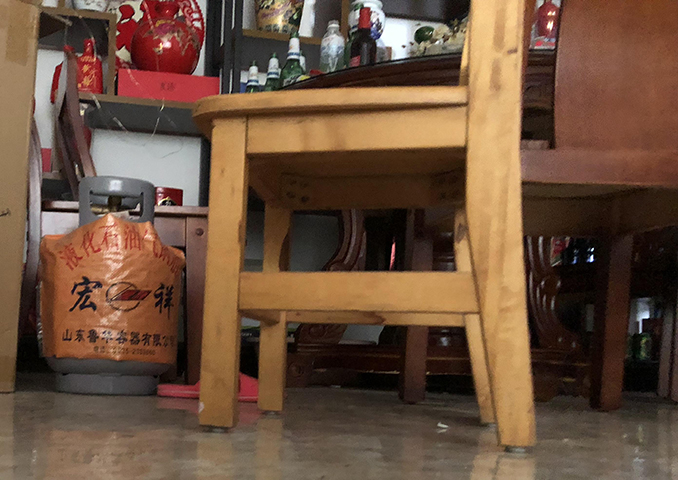slippers: (156, 369, 259, 403)
stool: (191, 1, 534, 457)
